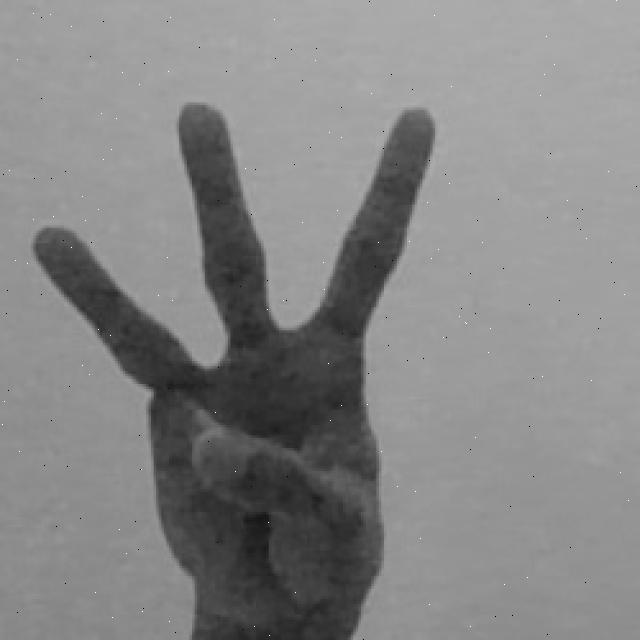W: (24, 91, 443, 640)
